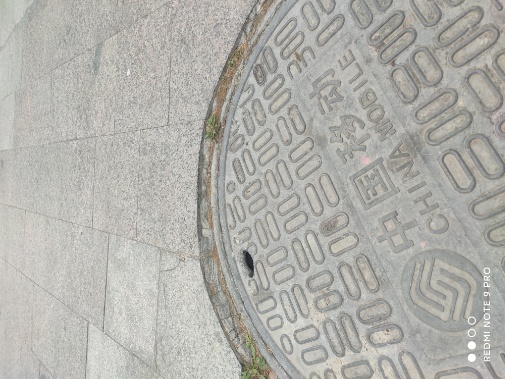good: (199, 1, 505, 379)
